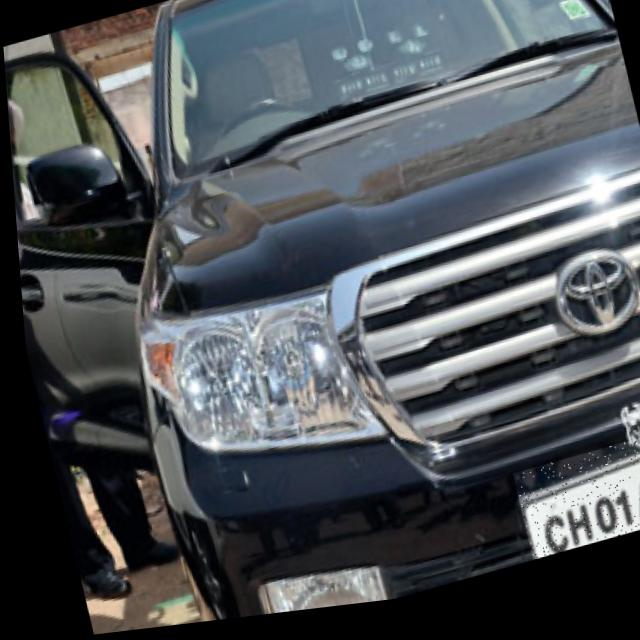license_plate: (503, 438, 640, 573)
